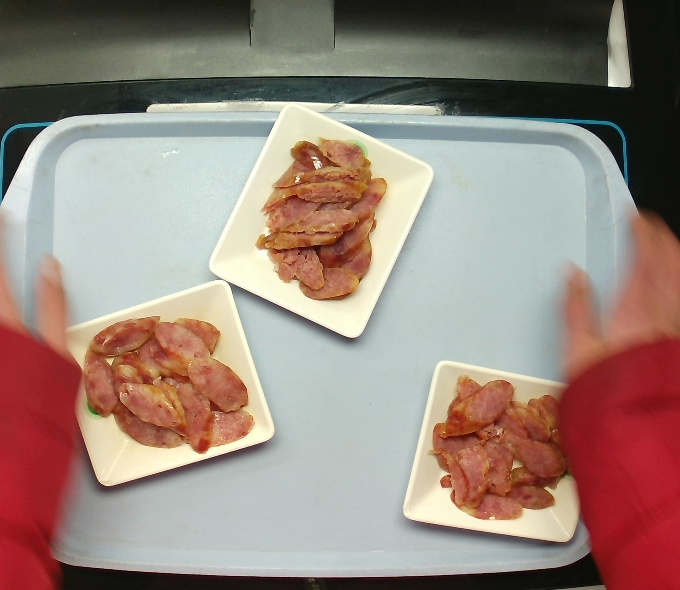wcq-QiePianXiangChang: (77, 301, 266, 464), (411, 371, 589, 524), (254, 129, 398, 313)
